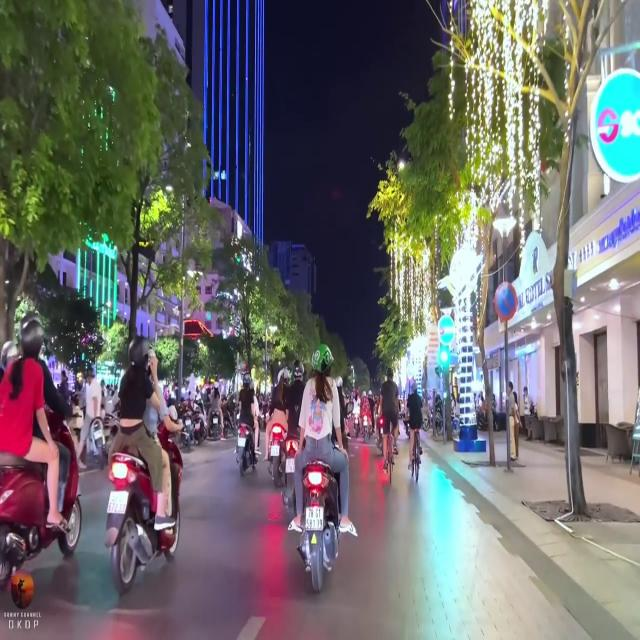bien_trang: (103, 488, 132, 515), (302, 506, 327, 534)
